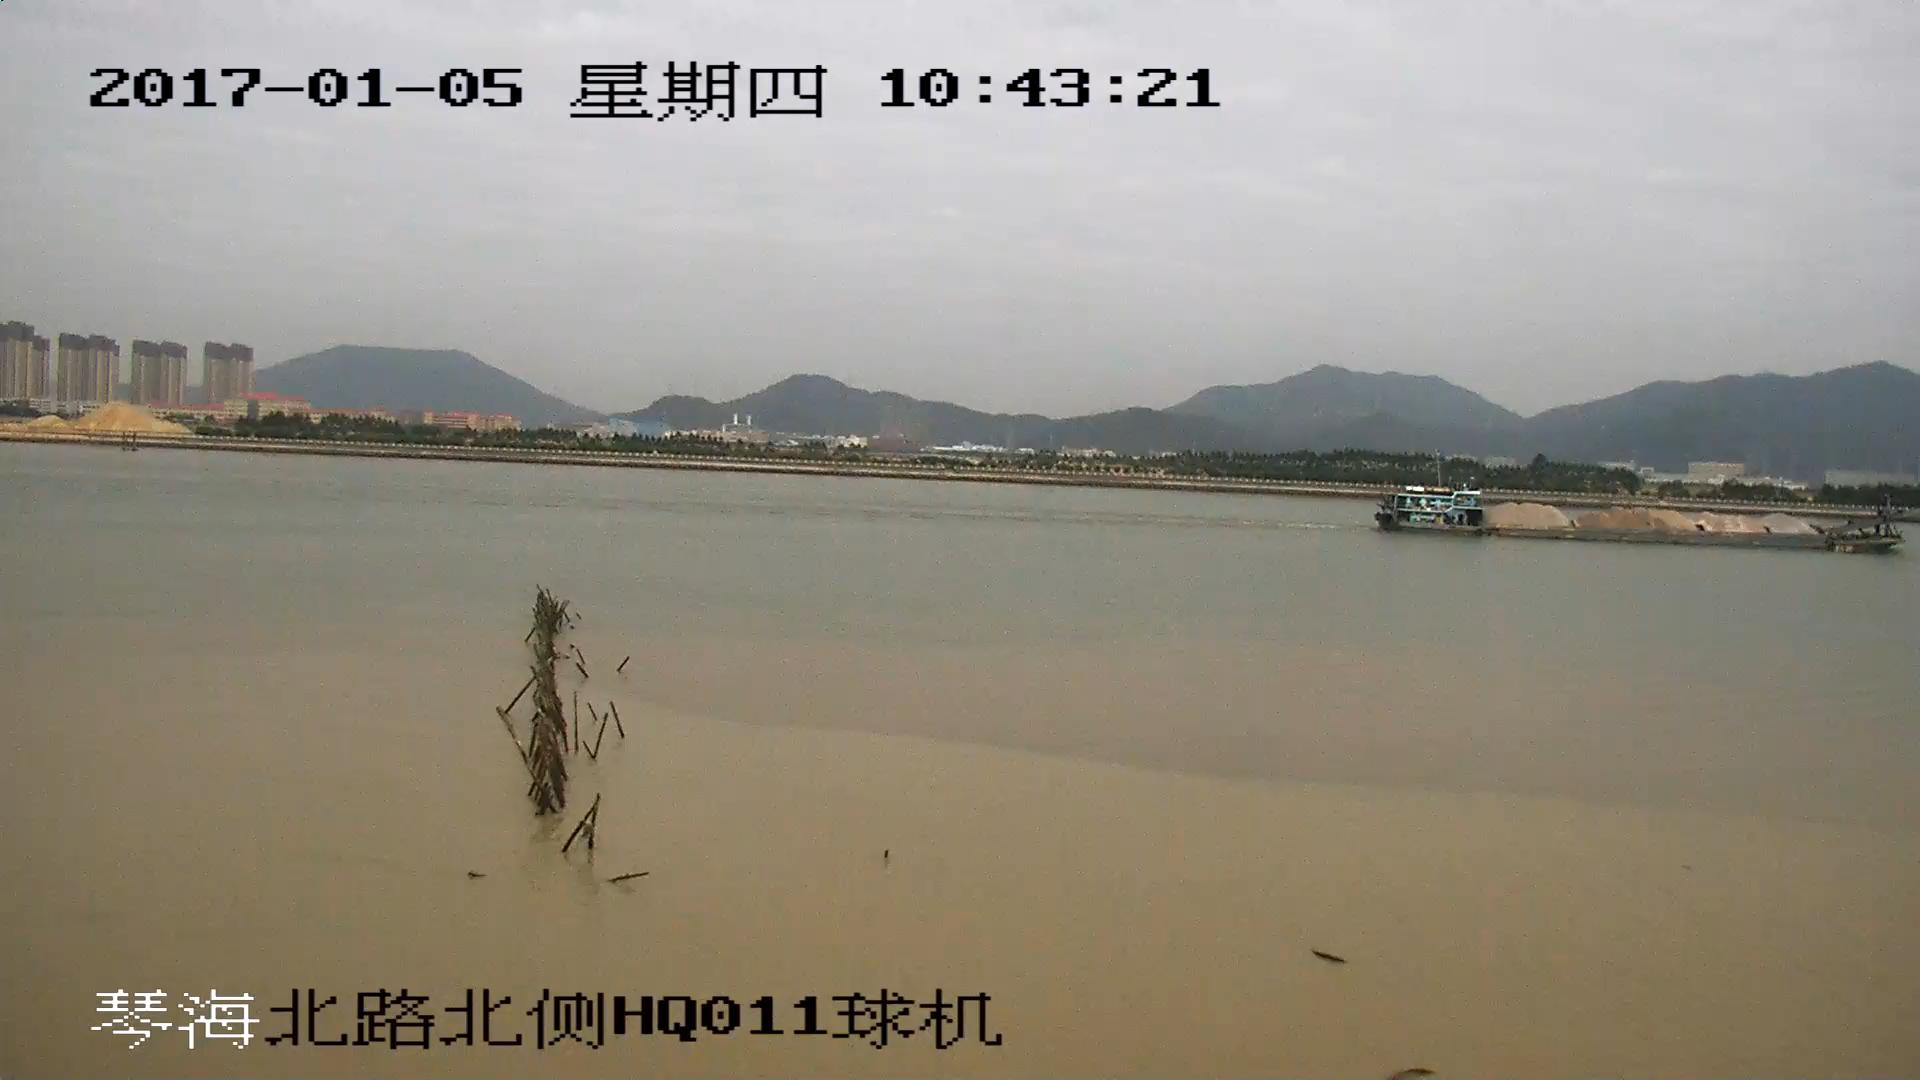ore carrier: (1380, 486, 1920, 551)
